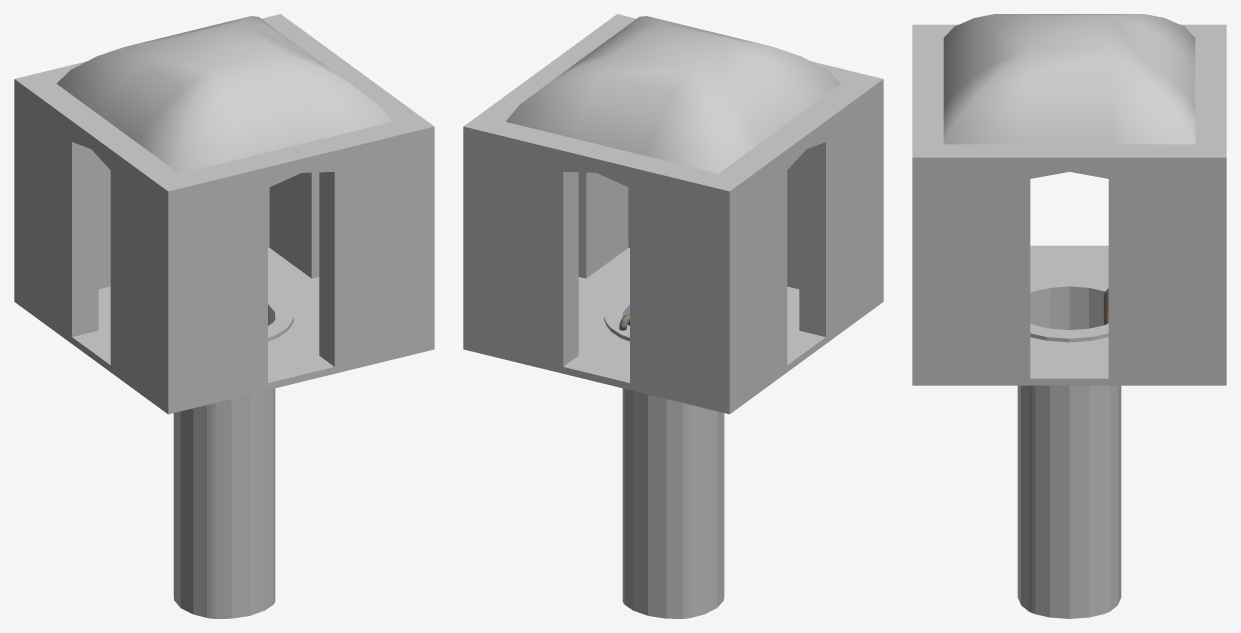
The model's file is exit-cell.fbx.
3 views of the same model, side by side, from view 1: azimuth 30°, elevation 25°; view 2: azimuth 150°, elevation 25°; view 3: azimuth 270°, elevation 25° (orthographic). The views are drawn at different scales.
Visible parts, largest first — view 1: cell-exit; view 2: cell-exit; view 3: cell-exit.
Boxes of the visible parts, <box> form: cell-exit: <box>14,14,434,618</box>; cell-exit: <box>463,14,883,618</box>; cell-exit: <box>912,14,1226,618</box>.
Size of the model in its own units: 400 by 400 by 801.
